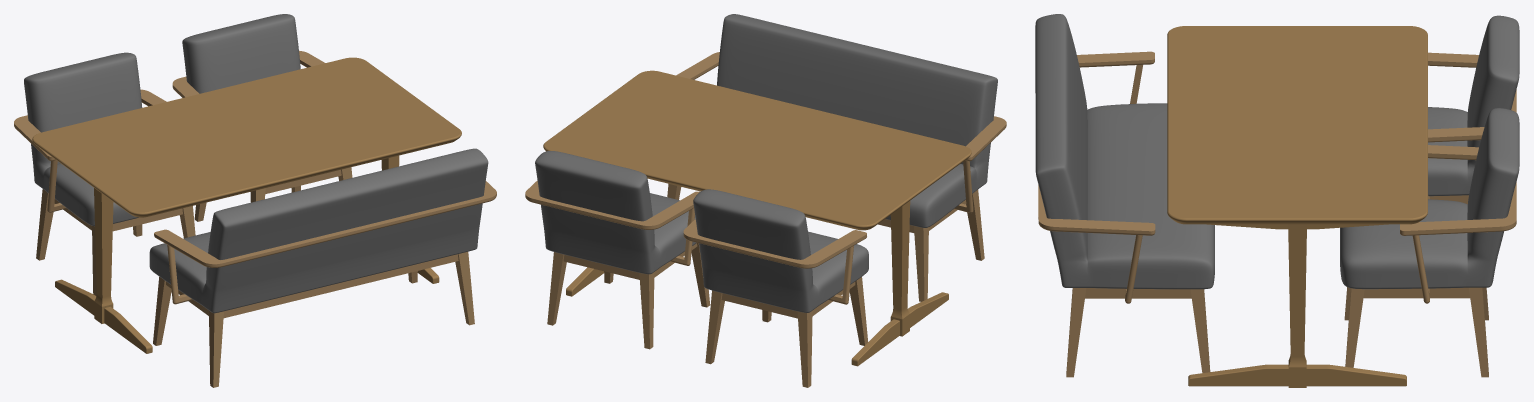
File: 552_ダイニングテーブルセット4人掛け.glb
The picture shows the model from 3 angles, left to right: view 1: azimuth 30°, elevation 25°; view 2: azimuth 150°, elevation 25°; view 3: azimuth 270°, elevation 25°; orthographic projection. The views are drawn at different scales.
Parts seen in each view (by area): view 1: Body, sofa3, sofa1, sofa2; view 2: Body, sofa3, sofa1, sofa2; view 3: Body, sofa3, sofa2, sofa1.
Part boxes in pixels (<box>): Body: <box>32,57,461,353</box>; sofa3: <box>149,148,496,387</box>; sofa1: <box>14,52,195,295</box>; sofa2: <box>172,14,352,221</box>; Body: <box>543,70,971,366</box>; sofa3: <box>667,14,1006,301</box>; sofa1: <box>683,189,868,387</box>; sofa2: <box>525,151,710,349</box>; Body: <box>1167,26,1427,387</box>; sofa3: <box>1035,14,1214,377</box>; sofa2: <box>1340,108,1519,377</box>; sofa1: <box>1428,15,1519,204</box>.
Size of the model in its own units: 1.51 by 0.7691 by 1.59.
